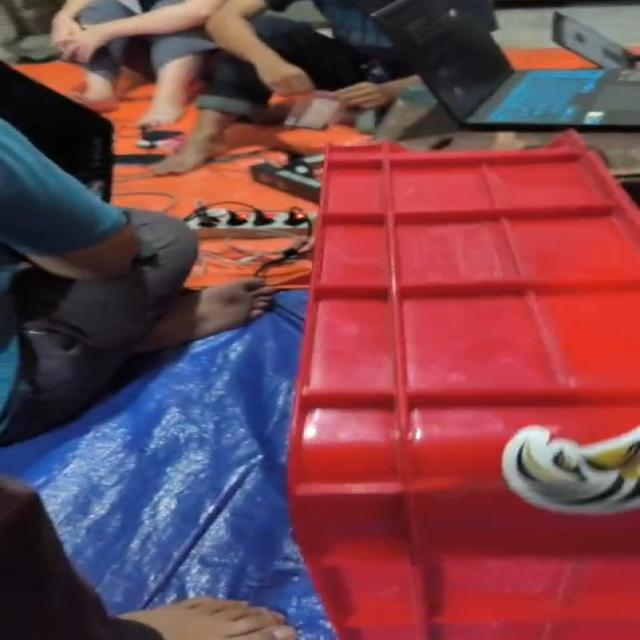red plastic box: (286, 131, 640, 639)
